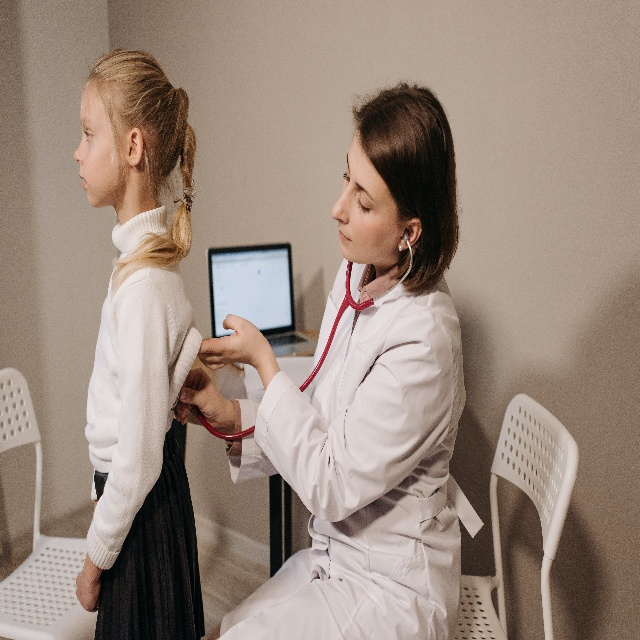Sin_guantes: (200, 312, 267, 373), (174, 368, 225, 433), (74, 565, 103, 611)
